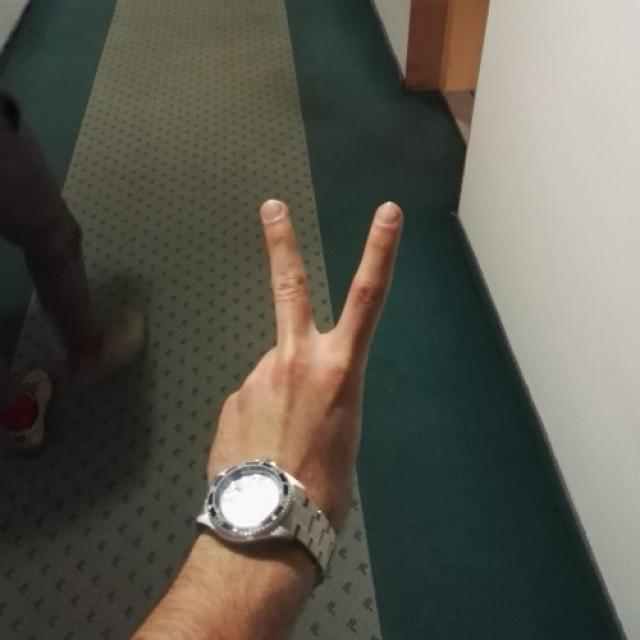scissors: (224, 194, 402, 490)
